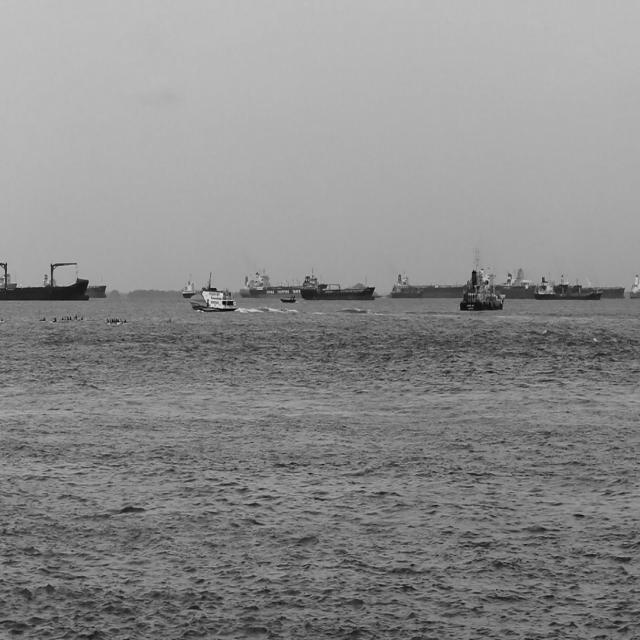kayak: (59, 312, 86, 325), (103, 315, 130, 325), (279, 294, 298, 306), (165, 314, 179, 327), (39, 314, 51, 325), (50, 314, 61, 325), (1, 314, 10, 325)
ship: (384, 263, 530, 297), (0, 258, 92, 300), (521, 262, 628, 296), (459, 244, 507, 312), (301, 266, 377, 301), (242, 260, 304, 298), (534, 271, 603, 299), (186, 285, 241, 316), (43, 270, 108, 294), (182, 269, 230, 299), (0, 268, 22, 289)
